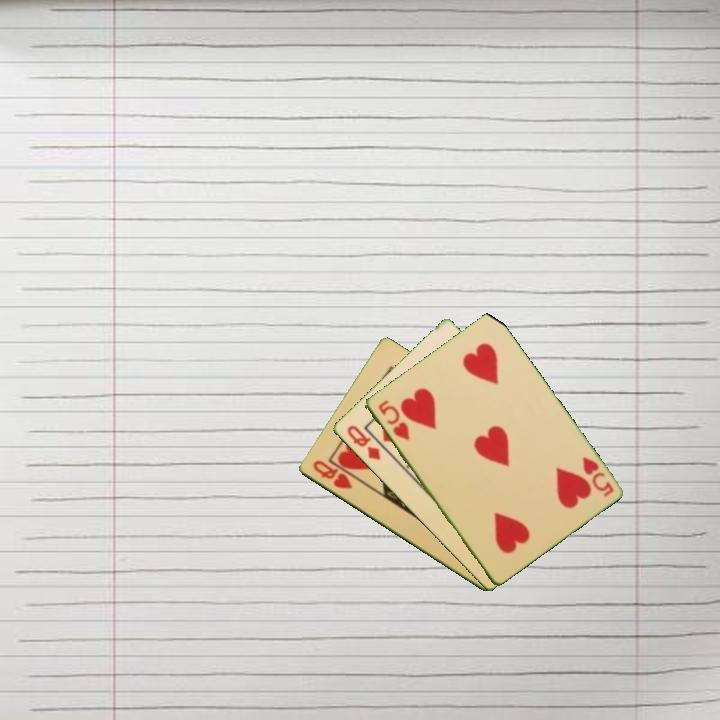5h: (374, 396, 412, 443), (578, 453, 616, 500)
Qd: (343, 421, 383, 463)
Qh: (309, 457, 355, 492)
